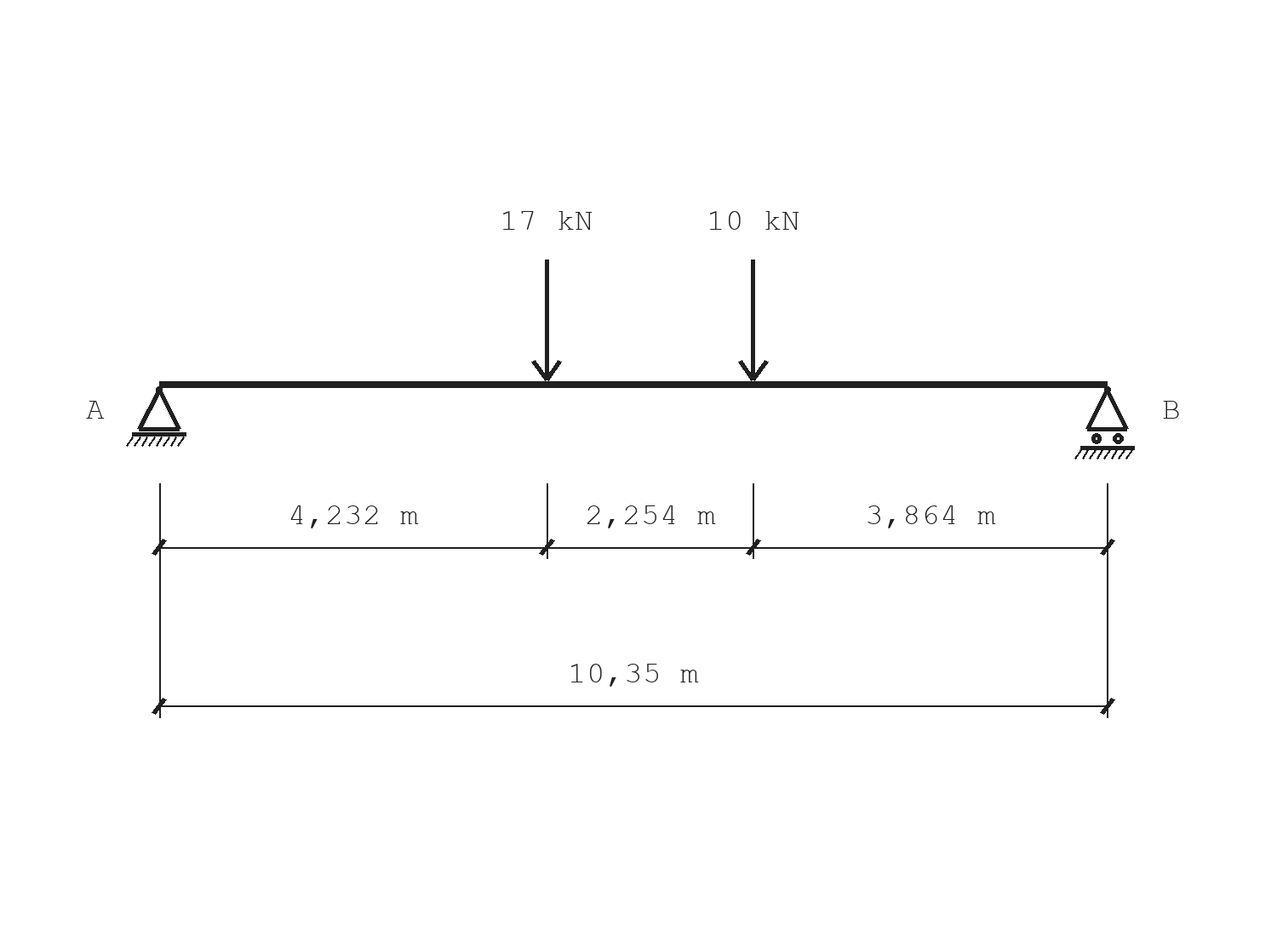pin_support: (126, 386, 186, 447)
point_load: (531, 260, 562, 381), (738, 260, 769, 381)
roller_support: (1074, 386, 1135, 459)
